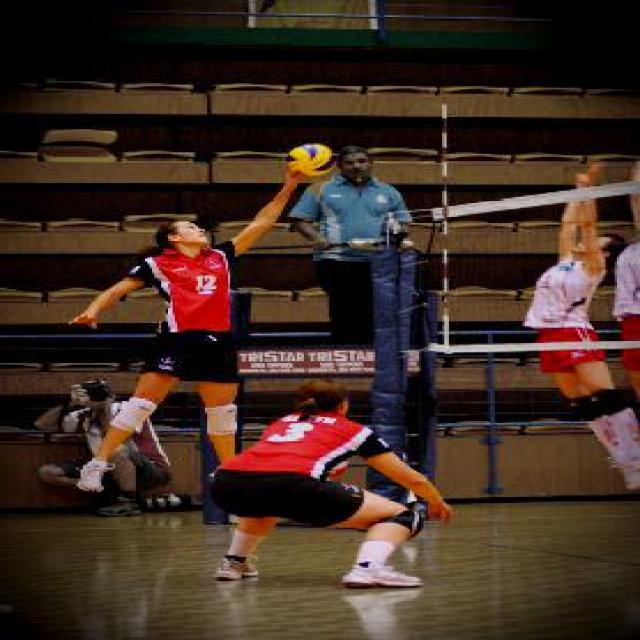volleyball: (288, 142, 336, 178)
